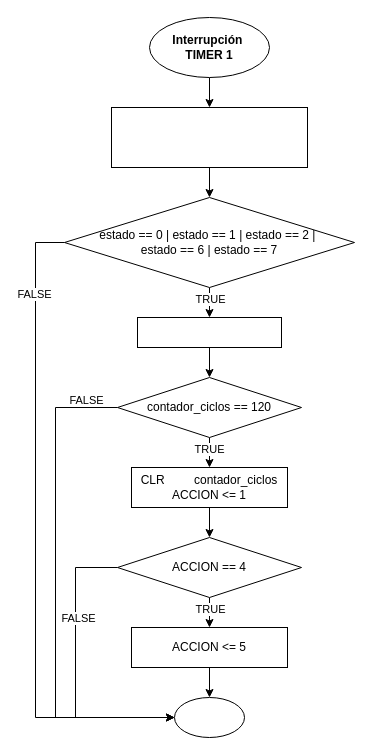
Some shapes in this 372 by 755 pixel diagram are drawn without their labels. The shapes that lost their labels are listed below. From the top down, each one's centre as x and y in pixels, then its label:
At (209,137): "out_PORTD <= PIND out_PORTD XOR 0b10000000 PORT D <= out_PORTD".
At (209,332): "INC contador_ciclos".
At (209,717): "FIN".
